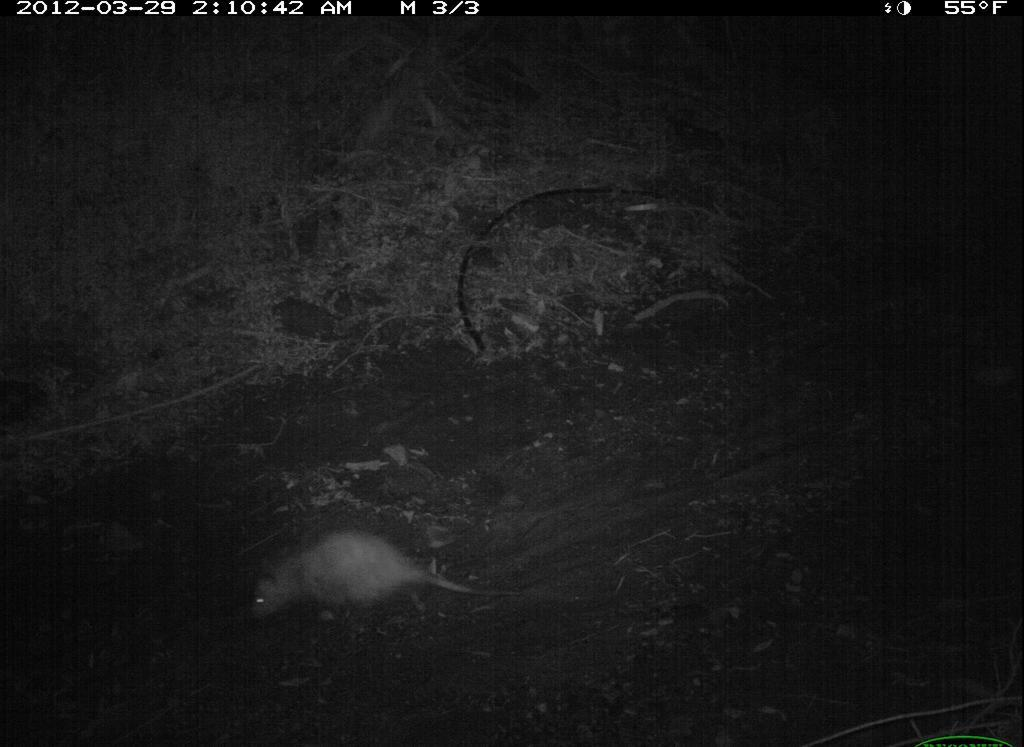opossum: (246, 524, 523, 635)
